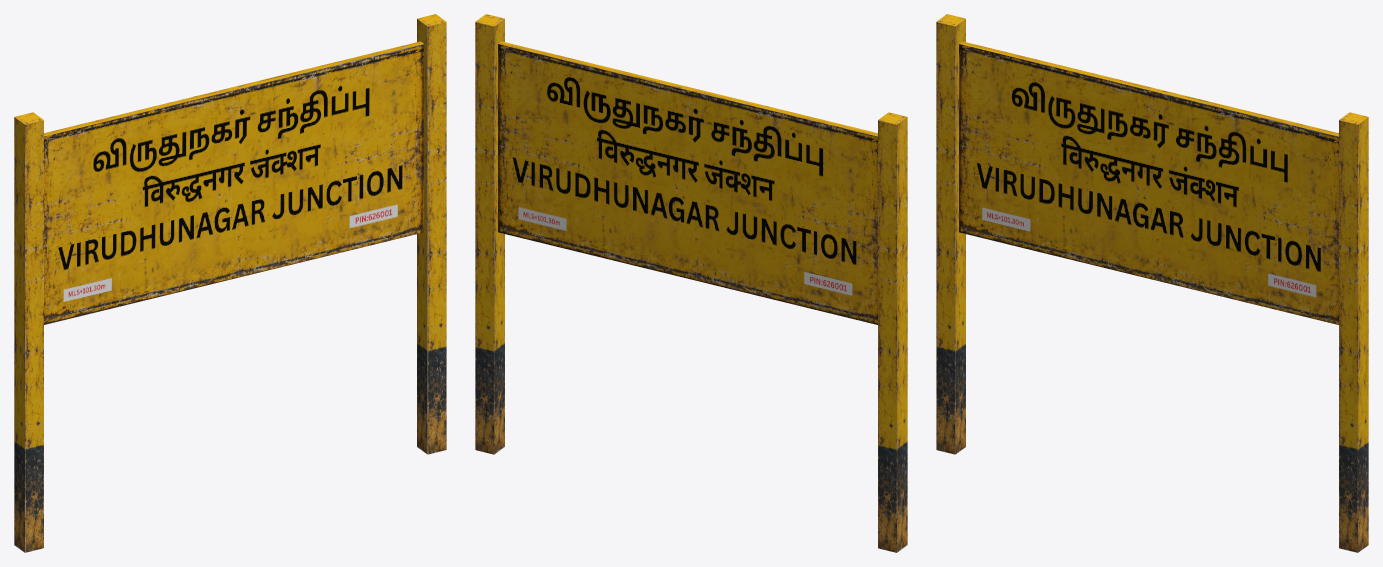
The model's file is TTKC-VPT-STBD.glb.
3 views of the same model, side by side, from view 1: azimuth 30°, elevation 25°; view 2: azimuth 150°, elevation 25°; view 3: azimuth 330°, elevation 25° (orthographic).
Visible parts, largest first — view 1: NAME_BOARD, POLE-1, POLE-2; view 2: NAME_BOARD, POLE-1, POLE-2; view 3: NAME_BOARD, POLE-2, POLE-1.
Boxes of the visible parts, <box> form: NAME_BOARD: <box>44,41,423,324</box>; POLE-1: <box>14,112,43,552</box>; POLE-2: <box>417,14,446,454</box>; NAME_BOARD: <box>498,41,877,324</box>; POLE-1: <box>878,112,907,552</box>; POLE-2: <box>475,14,504,454</box>; NAME_BOARD: <box>959,41,1338,324</box>; POLE-2: <box>1339,112,1368,552</box>; POLE-1: <box>936,14,965,454</box>.
Bounding box in the file's own units: 2.66 × 2.58 × 0.1179.
3 materials, 3 textured.
